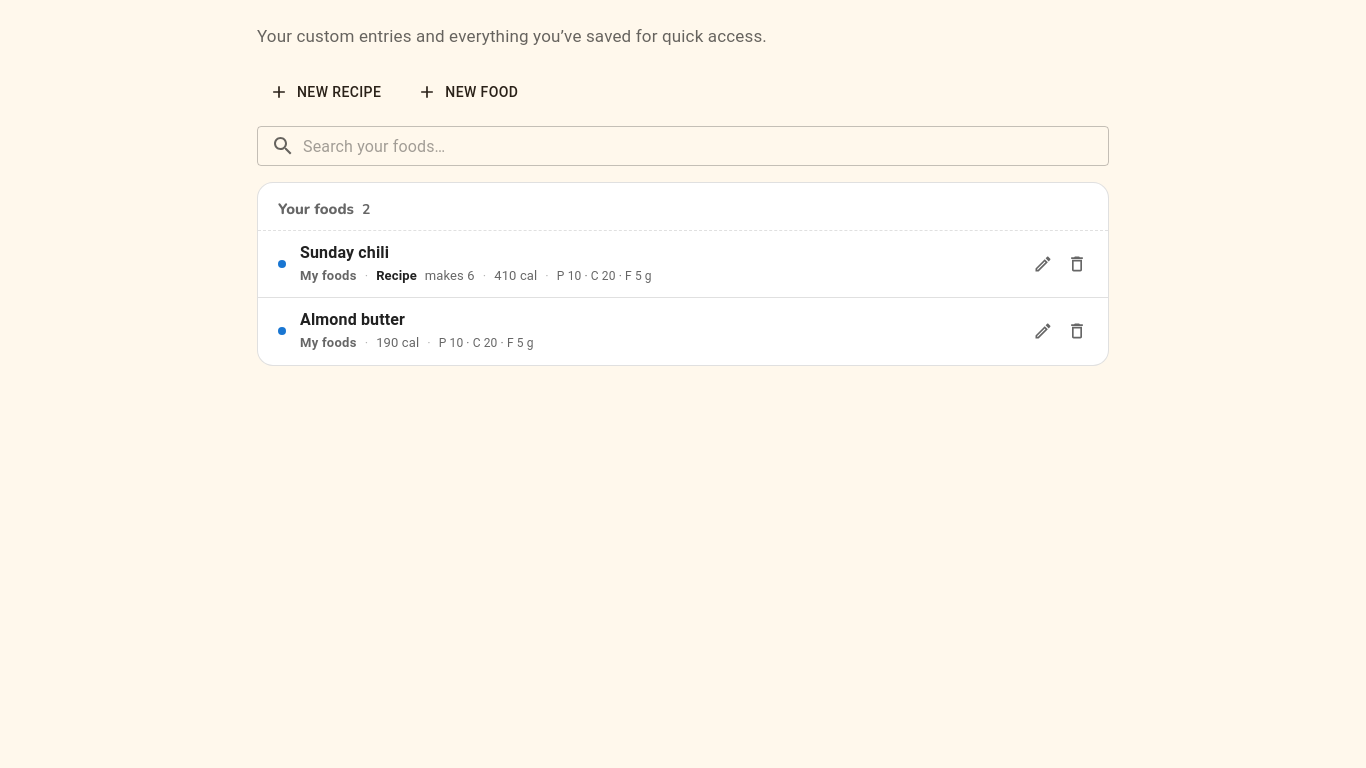
Test: My Foods recipes › opens the builder pre-filled when editing a recipe, and the plain form for a food
The image size is (1366, 768).
Click the button named "edit sunday chili": (1043, 264) [1028,249,1058,279]
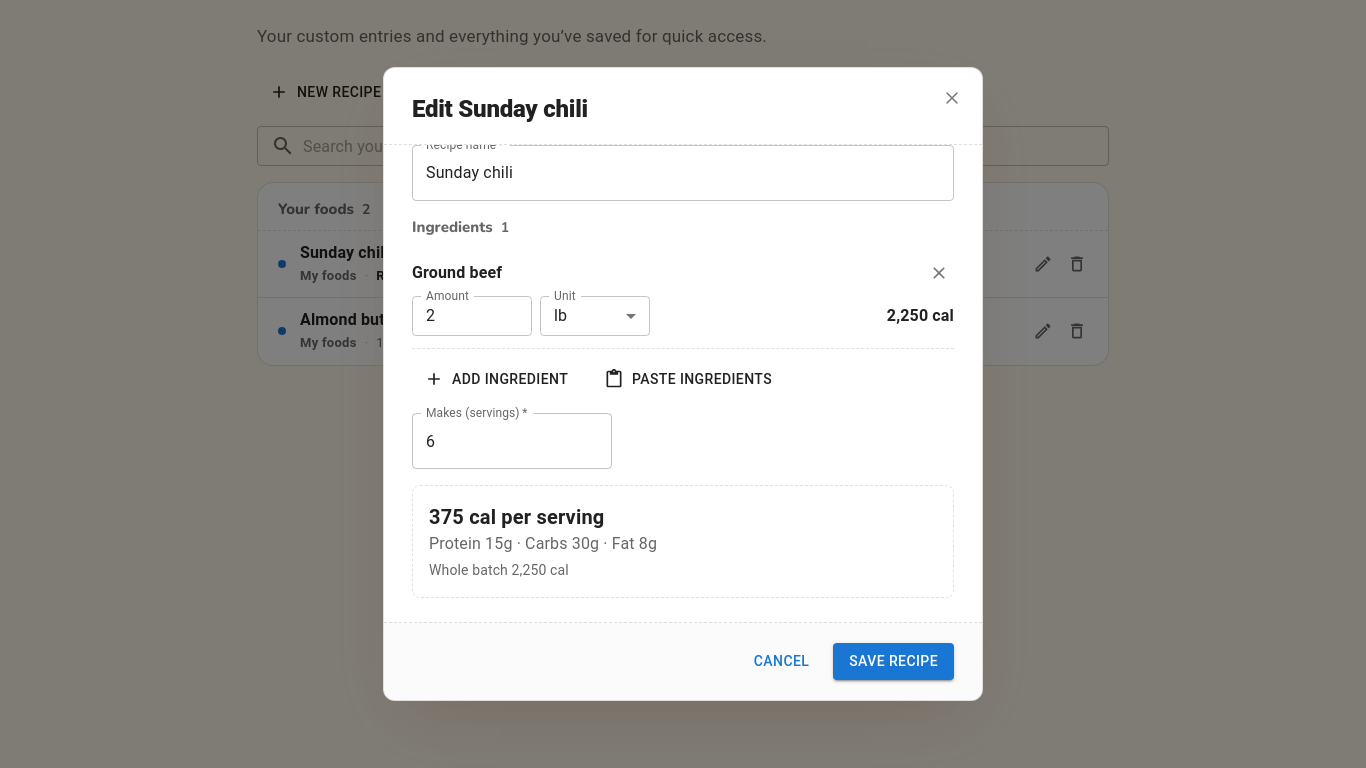
Expected: the number field labelled "Makes (servings) *" holds "6", [412,413,612,469]
Expected: the field labelled "Recipe name *" holds "Sunday chili", [412,145,954,201]
Expected: the number field named "Amount of Ground beef" holds "2", [412,296,532,336]
